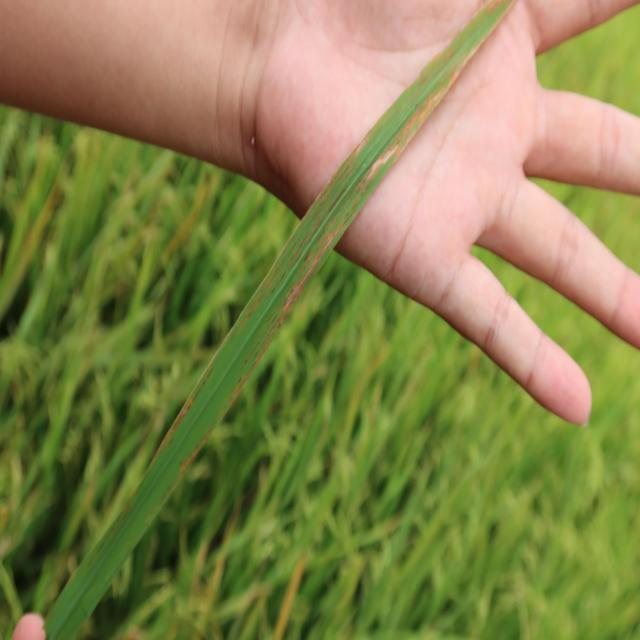Dom soc vi khuan: (400, 37, 485, 140), (280, 223, 342, 316), (366, 142, 399, 183), (355, 138, 367, 158)
